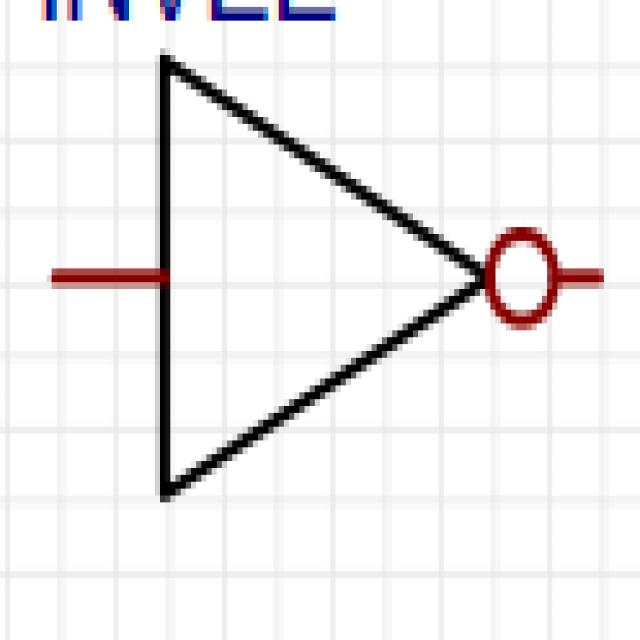inverter: (42, 34, 615, 524)
